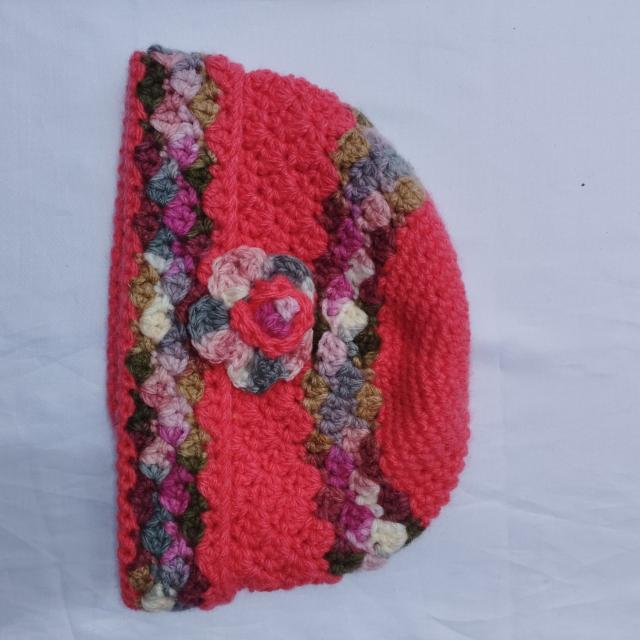Gorro: (105, 44, 473, 613)
